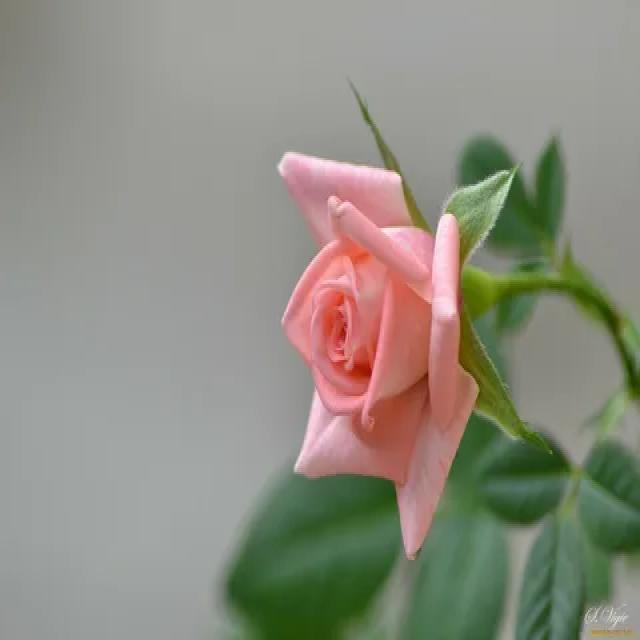rose: (250, 127, 488, 567)
